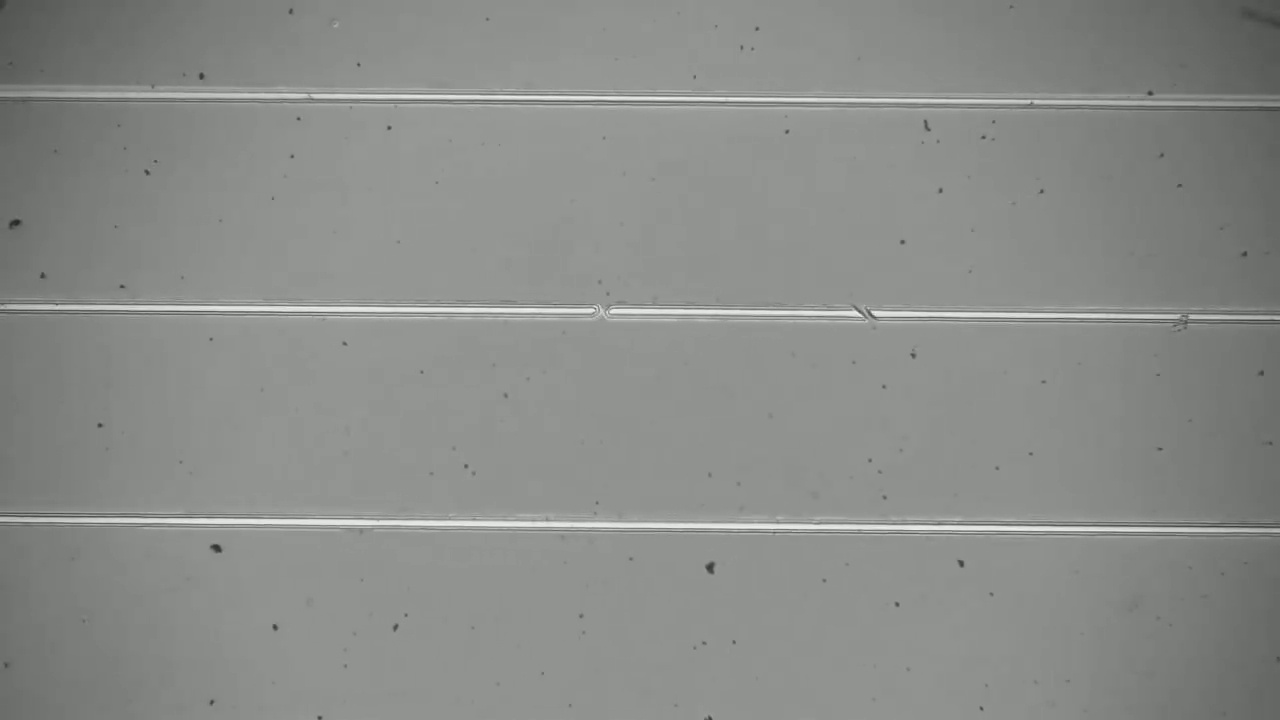open: (582, 291, 623, 330), (840, 300, 890, 328)
stains_enbedded: (1169, 302, 1193, 339)
